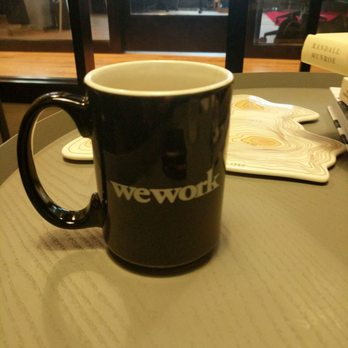wework: (108, 166, 221, 206)
